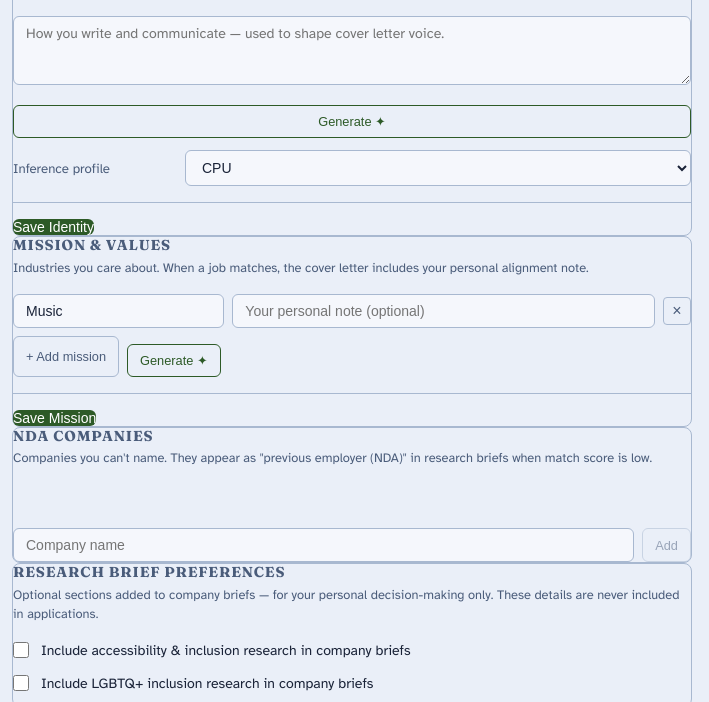
MyProfileView, AI generate buttons require review › generate-missions skips suggestions that duplicate an existing industry
This screenshot has width=709, height=702.
(page scrolled)
Step 1. Click the button with class "btn-generate" below "Mission & Values" → coordinates (174, 360), box [127, 344, 221, 377]
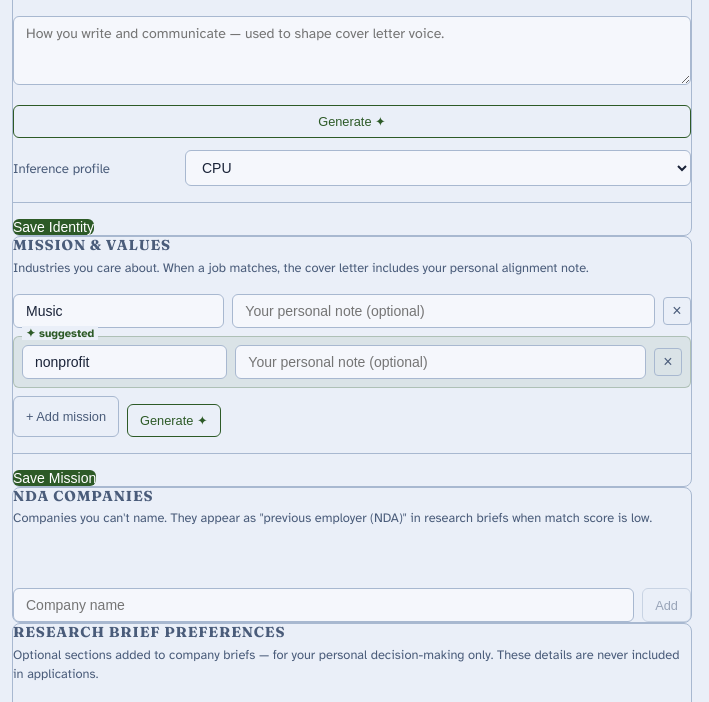
Expected: the number of elements with class "mission-row" is 2, [13, 294, 691, 328]; [13, 336, 691, 388]
